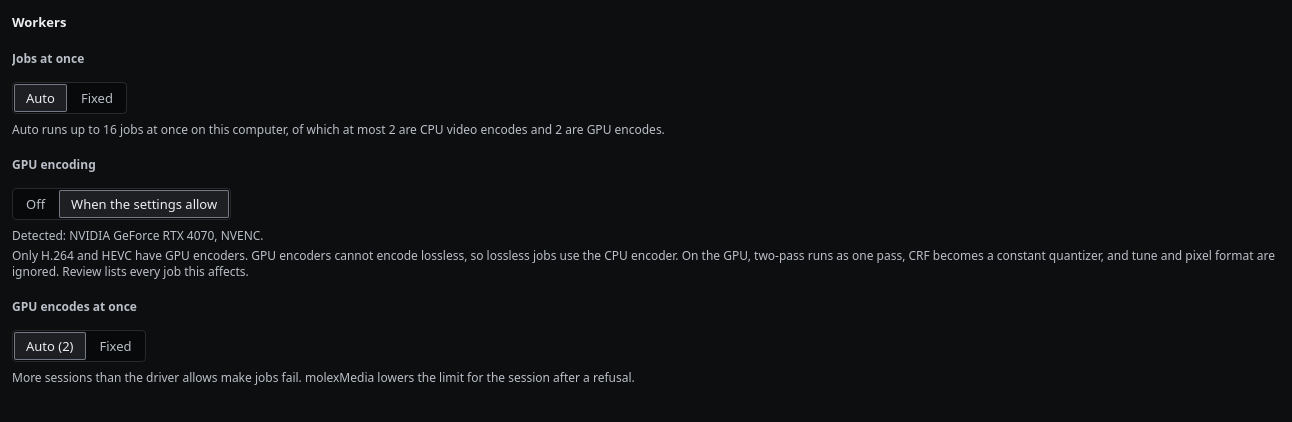
Test: WorkersPanel › sends the GPU choice through the output policy and shows a refusal inline
This screenshot has width=1292, height=422.
Click the radio button labelled "Off". click: (36, 204)
box: left=14, top=190, right=57, bottom=218
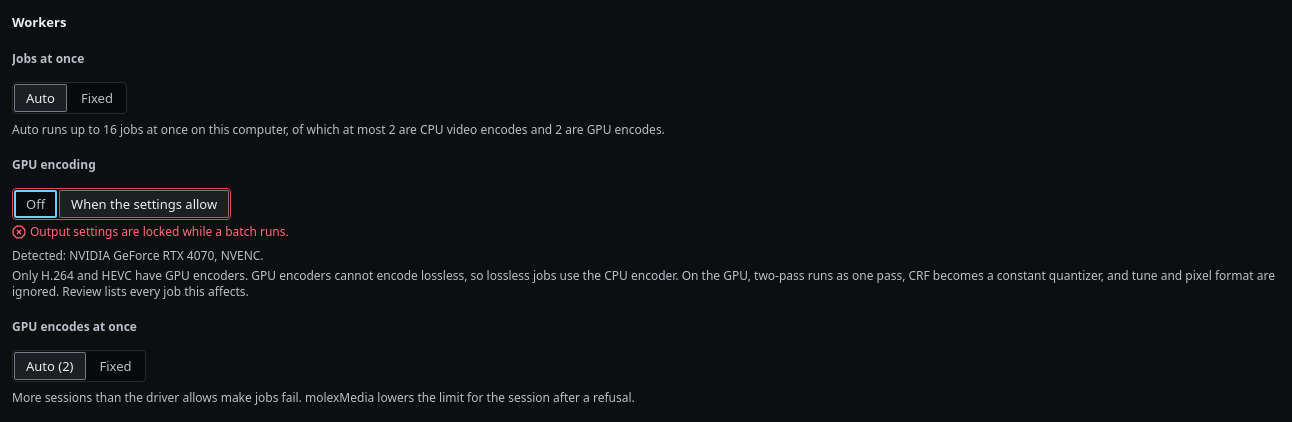
Expected: the text "Output settings are locked while a batch runs." is shown, left=30, top=224, right=289, bottom=240
